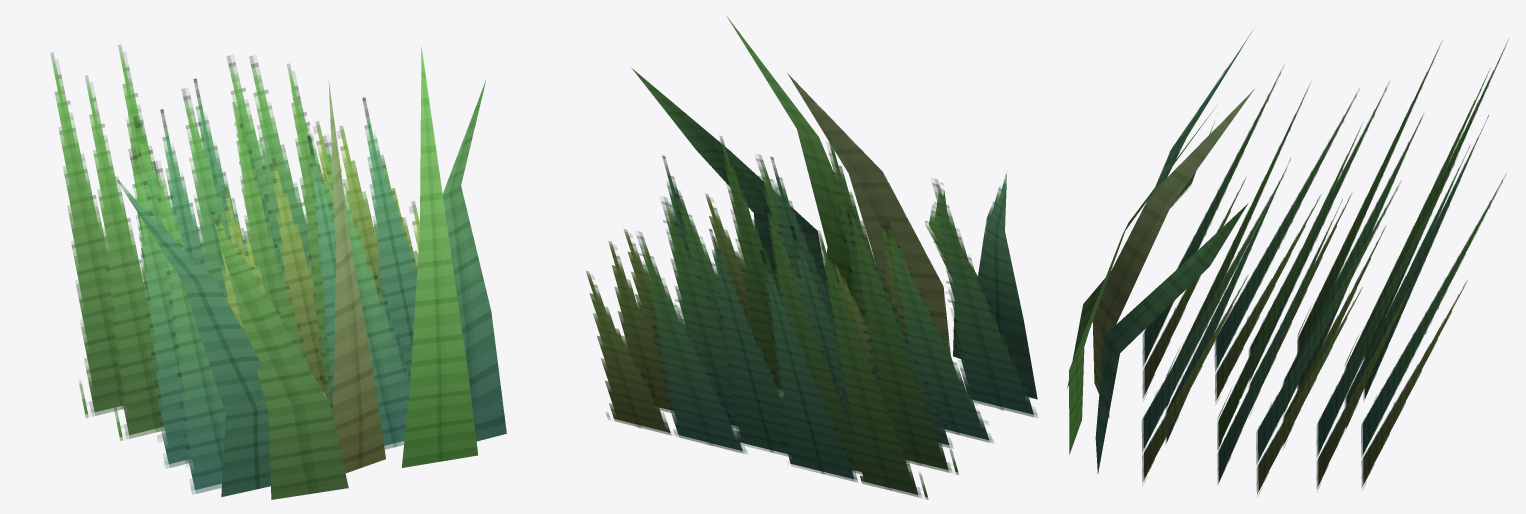
Rendered from Grass.glb.
The picture shows the model from 3 angles, left to right: view 1: azimuth 30°, elevation 25°; view 2: azimuth 150°, elevation 25°; view 3: azimuth 270°, elevation 25°; orthographic projection. The views are drawn at different scales.
Parts seen in each view (by area): view 1: Grass; view 2: Grass; view 3: Grass.
Part boxes in pixels (<box>): Grass: <box>50,45,506,499</box>; Grass: <box>586,16,1037,499</box>; Grass: <box>1067,31,1508,497</box>.
Bounding box in the file's own units: 2.52 × 2.3 × 2.51.
Materials: 1 (1 with a texture image).
